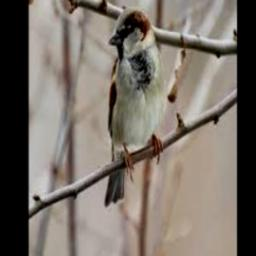Sparrow: (104, 7, 164, 206)
